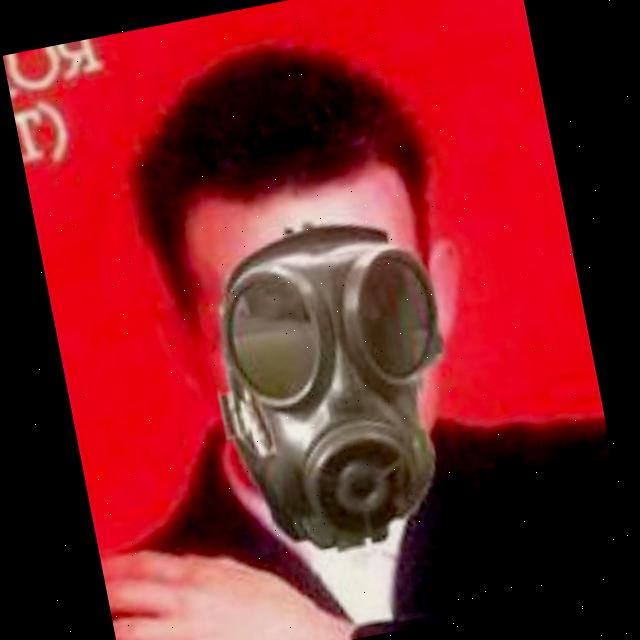suspicion: (85, 31, 528, 557)
